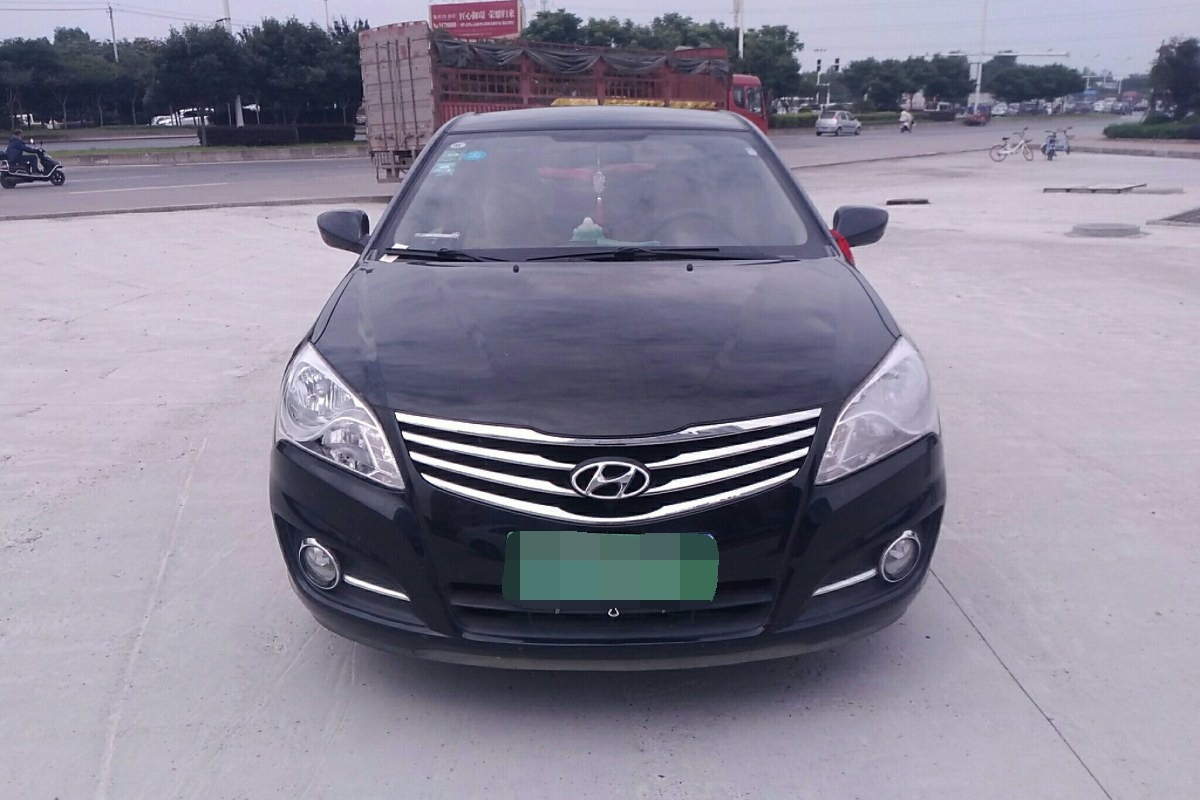family sedan: (280, 105, 954, 673)
